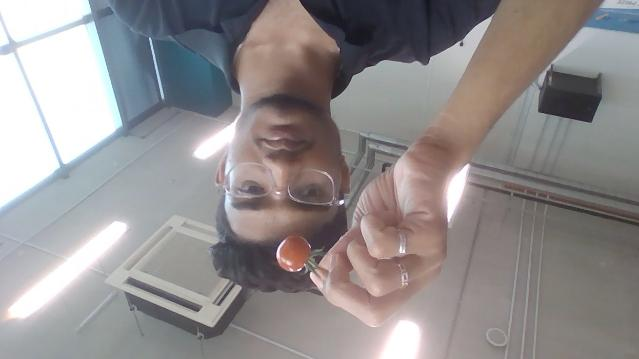Fully Grown: (275, 234, 312, 273)
